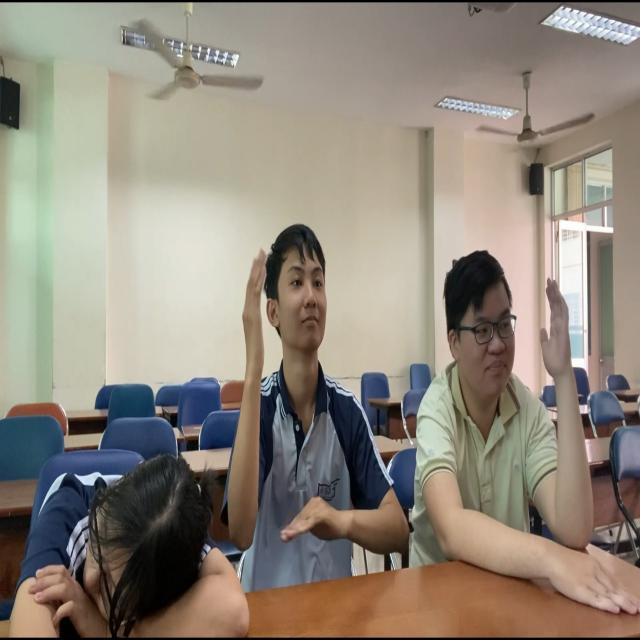raise_hand: (229, 213, 405, 616), (415, 255, 627, 588)
sleep: (12, 444, 239, 640)
